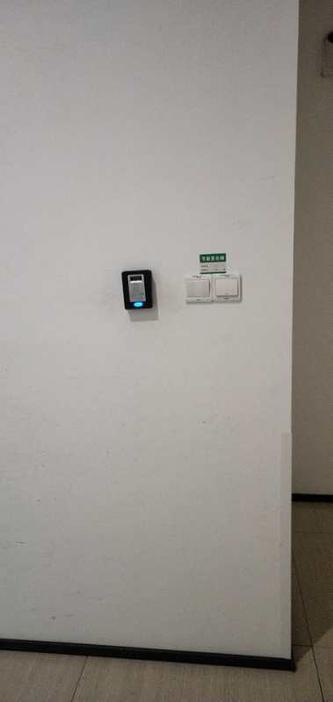switch: (182, 275, 211, 303), (214, 274, 243, 300)
